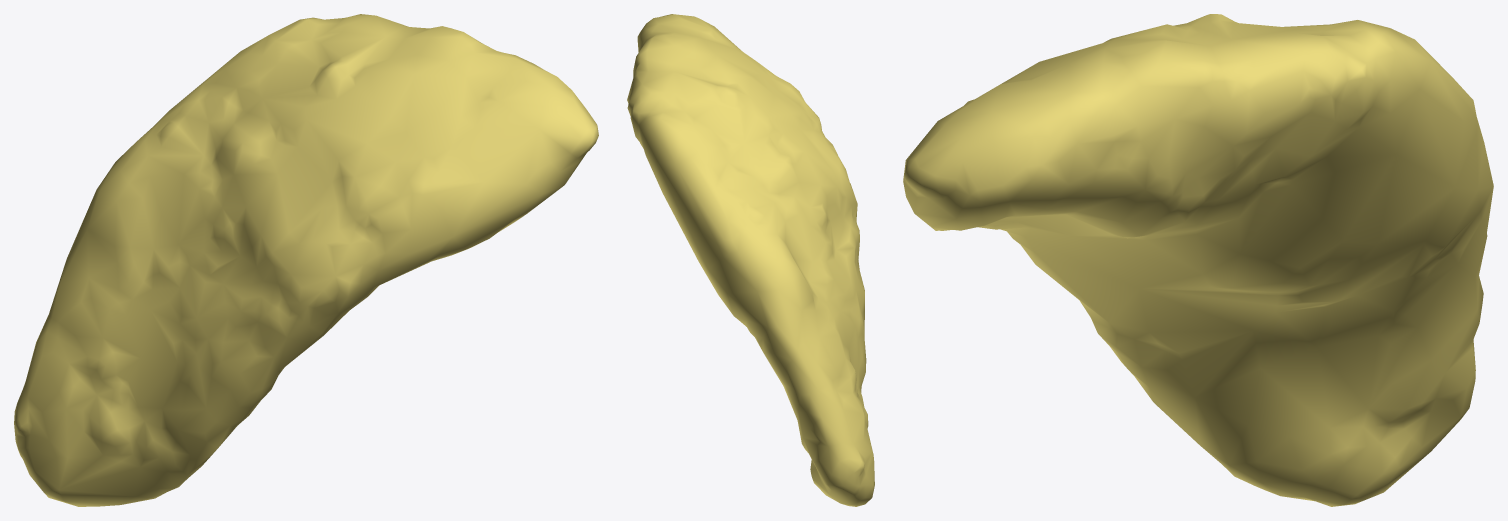
Rendered from lacrimal-gland-r.glb.
3 views of the same model, side by side, from view 1: azimuth 30°, elevation 25°; view 2: azimuth 150°, elevation 25°; view 3: azimuth 270°, elevation 25° (orthographic). The views are drawn at different scales.
Visible parts, largest first — view 1: Lacrimal gland.r; view 2: Lacrimal gland.r; view 3: Lacrimal gland.r.
Boxes of the visible parts, left/top/right/bottom form: Lacrimal gland.r: left=14, top=14, right=598, bottom=506; Lacrimal gland.r: left=627, top=14, right=874, bottom=506; Lacrimal gland.r: left=903, top=14, right=1493, bottom=506.
Size of the model in its own units: 0.018 by 0.0184 by 0.0151.
